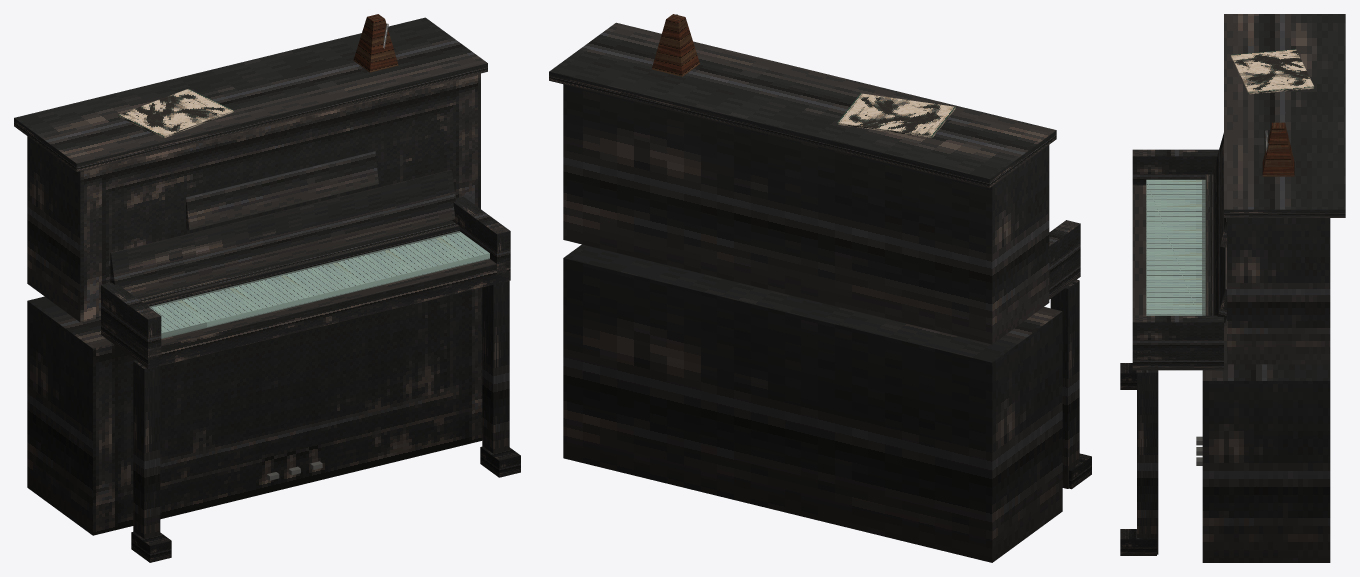
Rendered from prop_piano.glb.
3 views of the same model, side by side, from view 1: azimuth 30°, elevation 25°; view 2: azimuth 150°, elevation 25°; view 3: azimuth 270°, elevation 25° (orthographic). The views are drawn at different scales.
Parts seen in each view (by area): view 1: prop_piano; view 2: prop_piano; view 3: prop_piano.
Boxes of the visible parts, x1,y1,x2,y2 form: prop_piano: [14, 14, 520, 562]; prop_piano: [549, 14, 1091, 562]; prop_piano: [1120, 14, 1345, 562].
Bounding box in the file's own units: 1.52 × 1.45 × 0.74.
6 materials, 6 textured.
